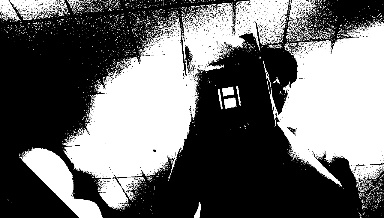H: (217, 86, 240, 109)
